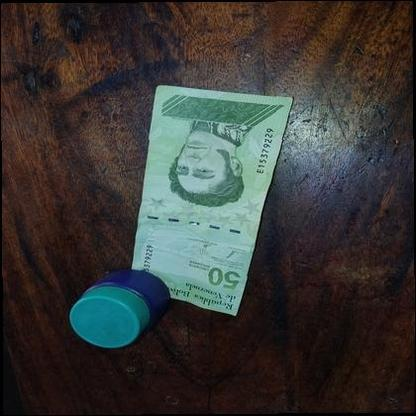fifty-front-vef: (130, 84, 294, 316)
